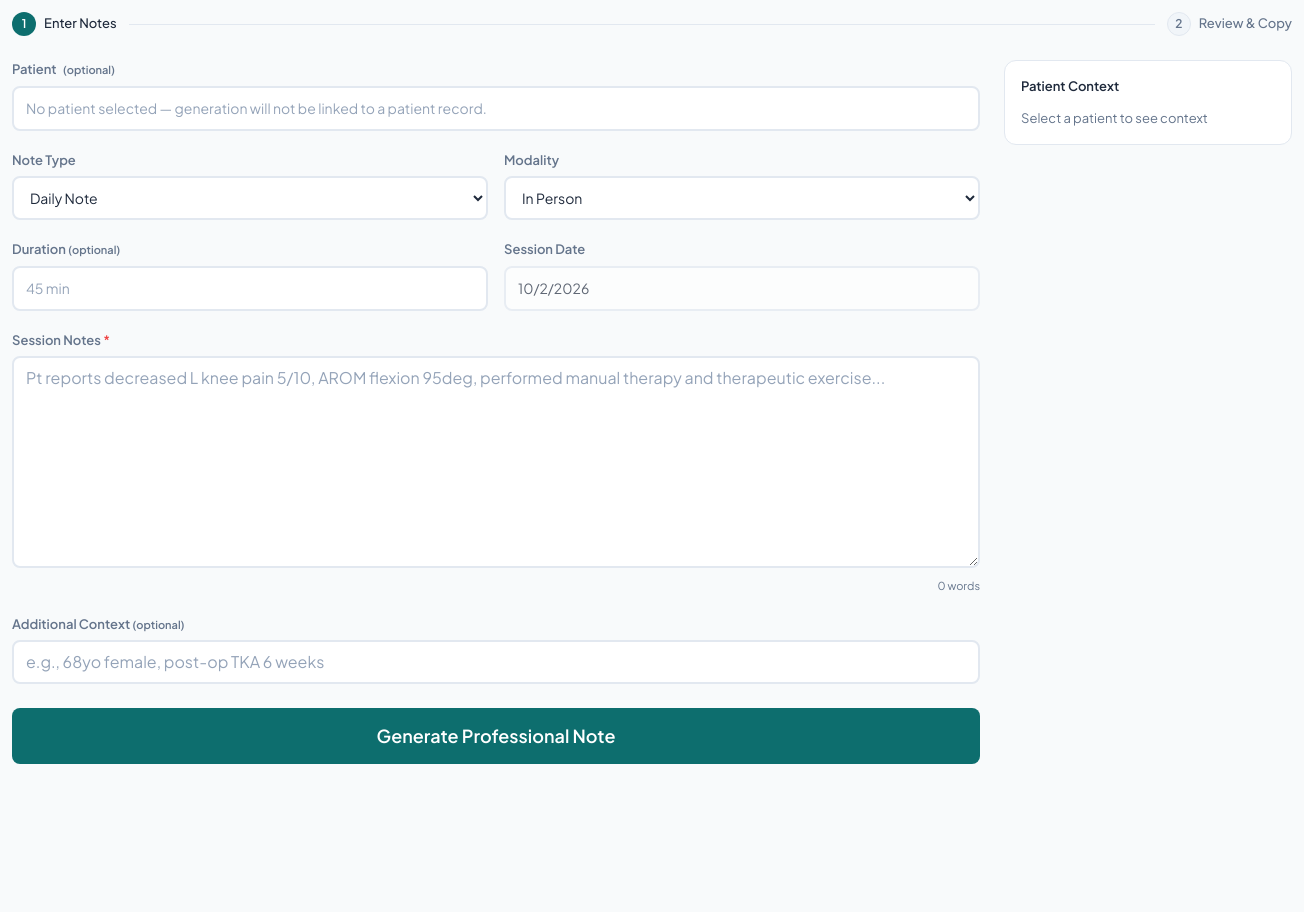
Test: NoteGenerationForm › displays field-level error message under Session Notes when action returns validation_error with fieldErrors
Type "short" into the text box labelled "Session Notes *" at x=496, y=462, box [12,356,980,568]
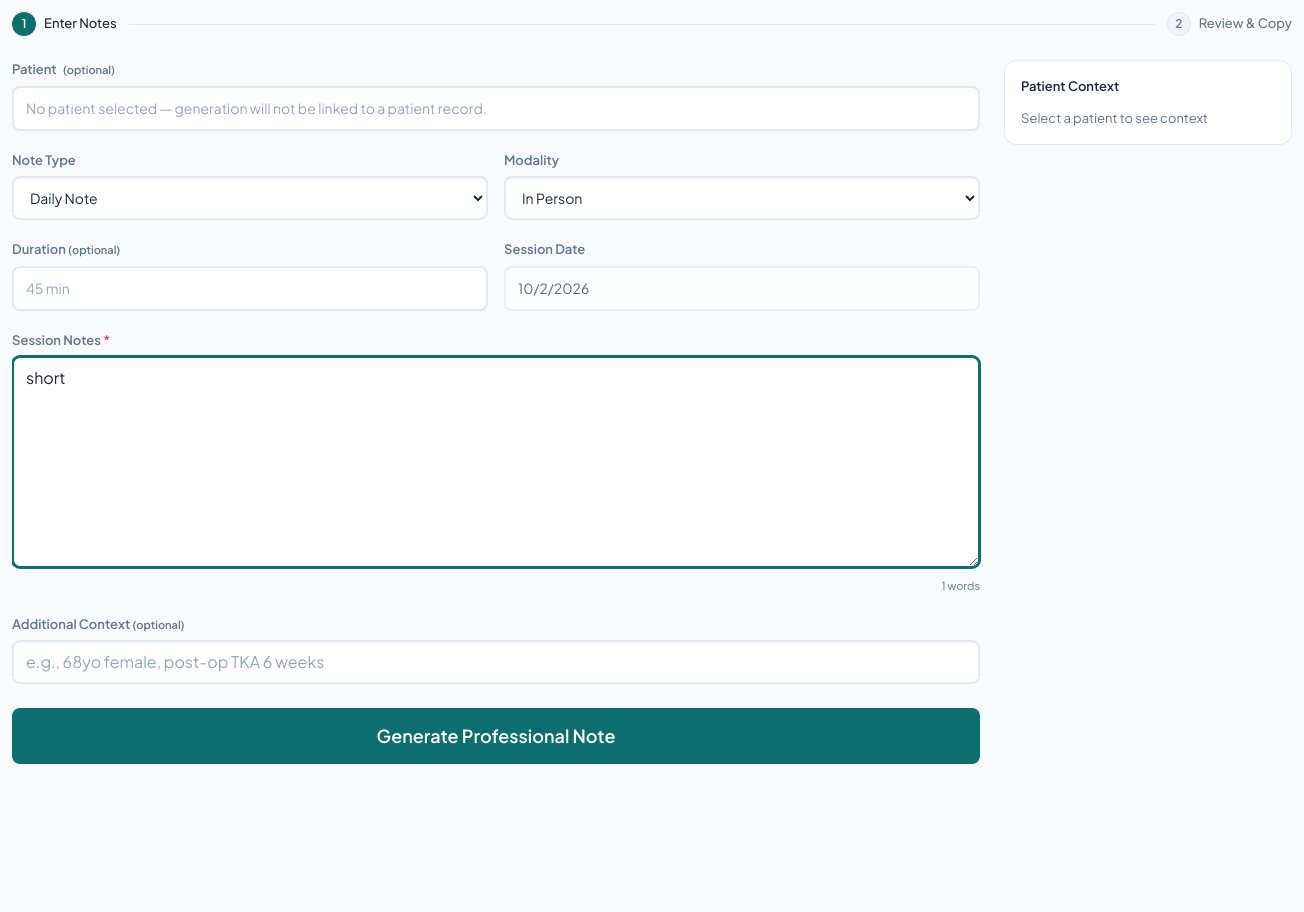
Click the button "Generate Professional Note" at x=496, y=736, box [12,708,980,764]
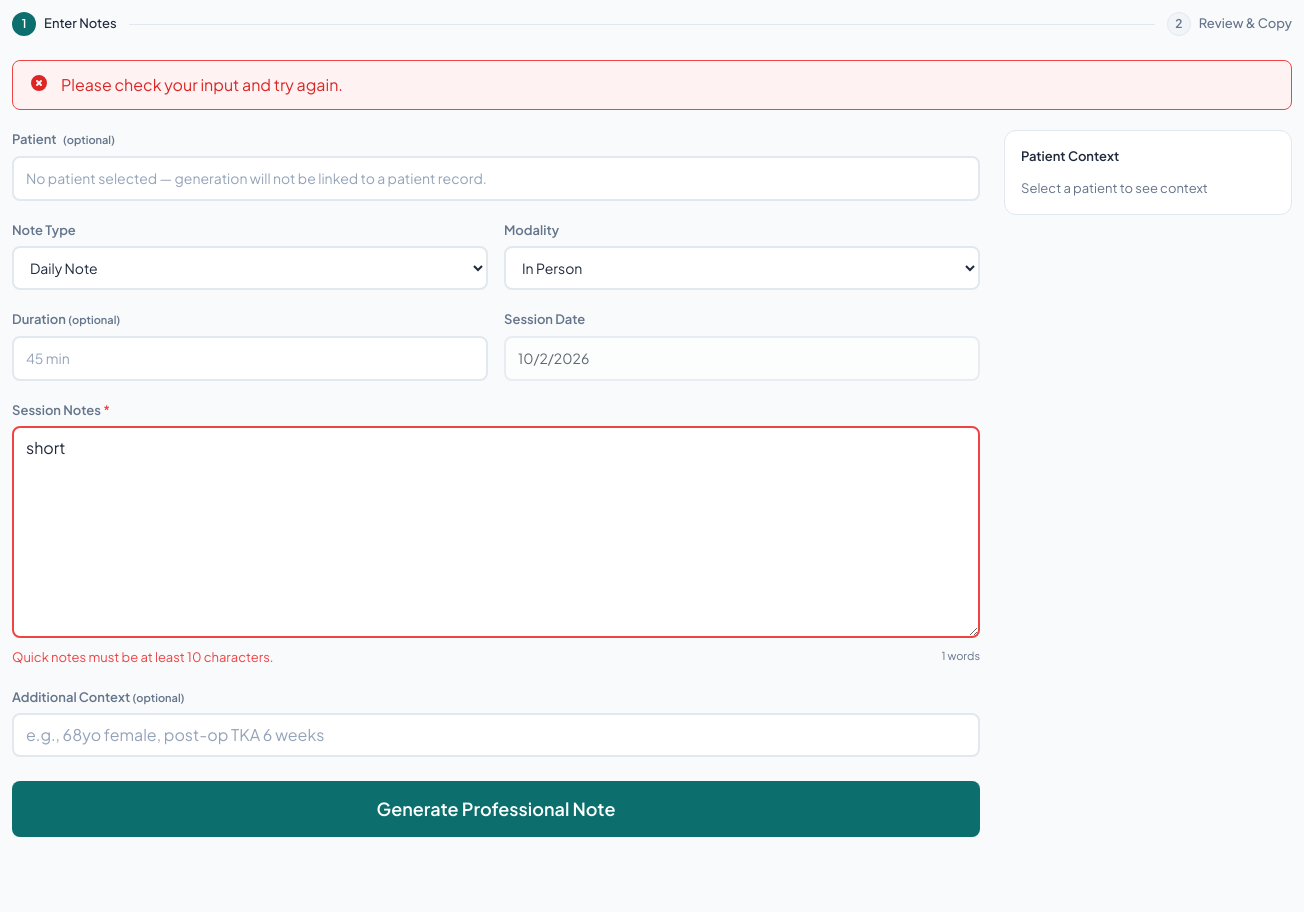
Check: the text "Quick notes must be at least 10 characters." is shown, box [12,648,274,668]
